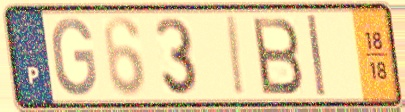3: (154, 16, 201, 97)
6: (101, 13, 149, 100)
B: (249, 15, 306, 97)
G: (50, 16, 99, 99)
I: (304, 12, 328, 99), (226, 13, 248, 99)
